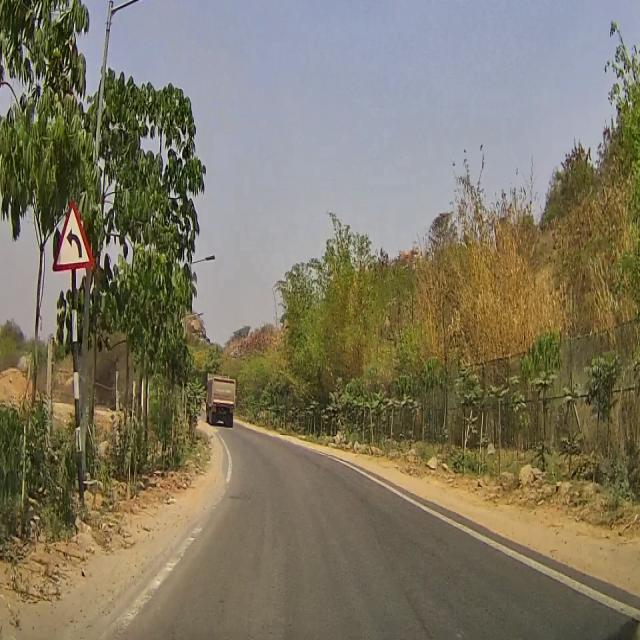sign board ahead at: (54, 198, 94, 280)
